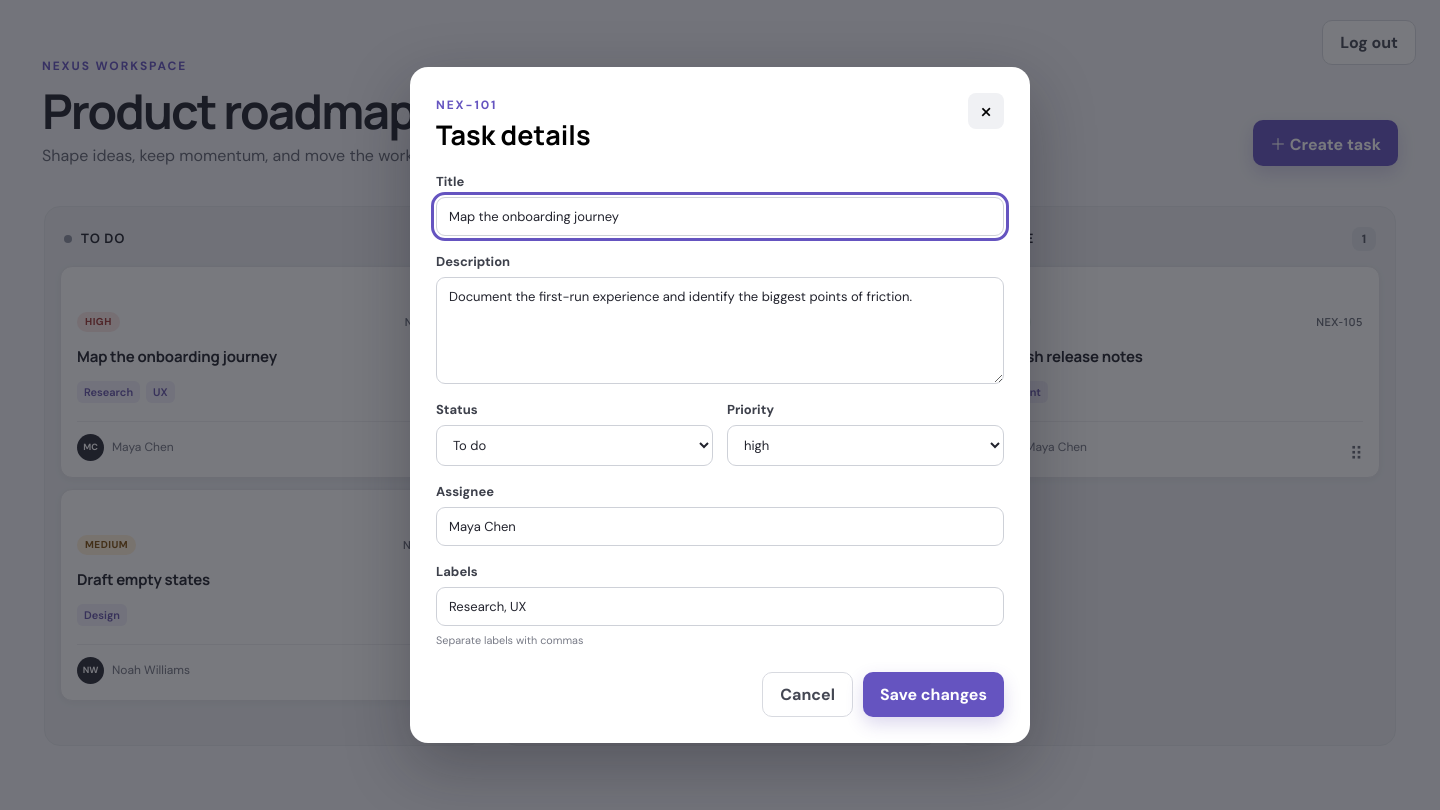
successful task save returns to the board route
The width and height of the screenshot is (1440, 810).
Click the button "Save changes" at {"x": 933, "y": 695}, box [863,672,1004,717]
(page scrolled)
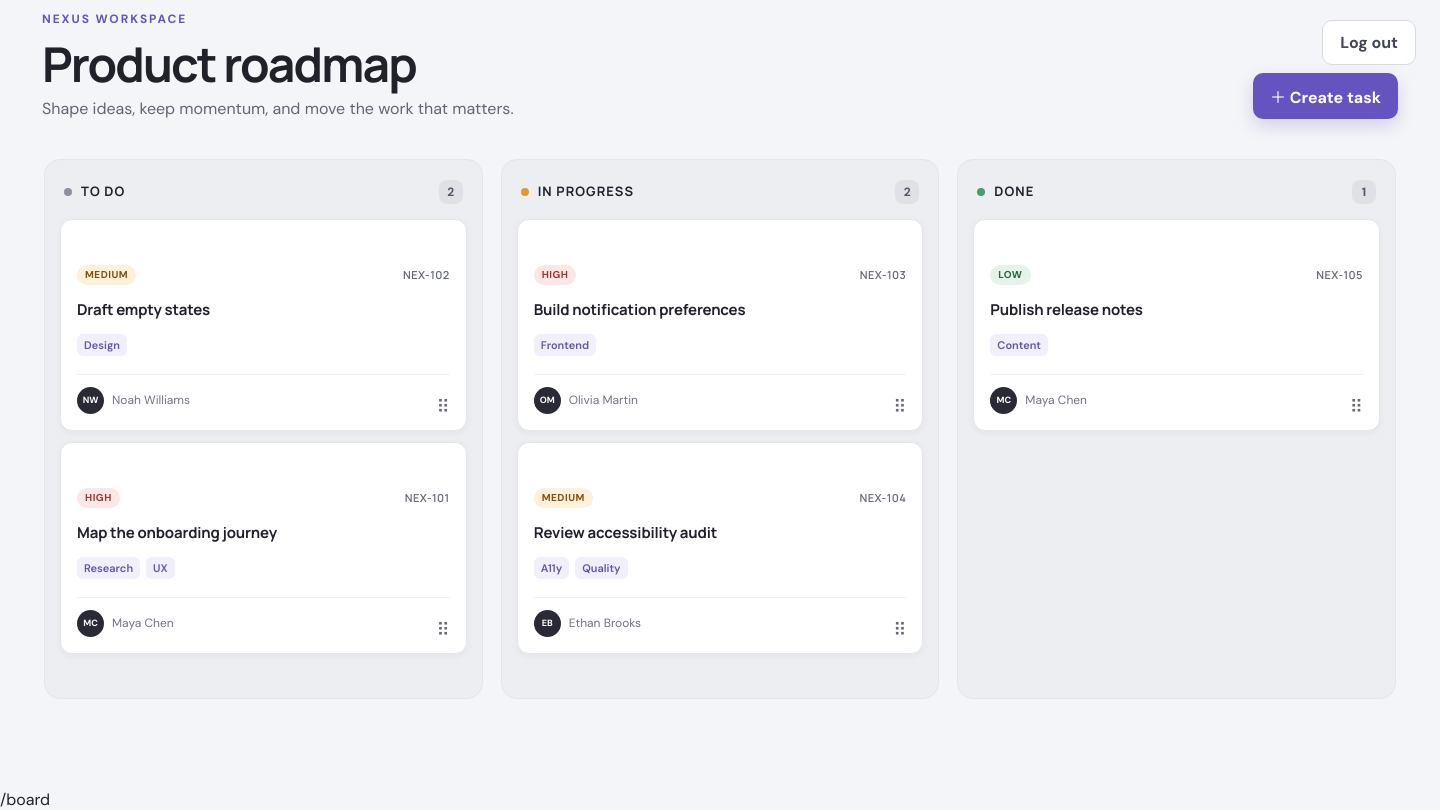
expect the text with test id "current-path" reads "/board": met, box [0,789,50,809]
expect the heading "Task details" is gone: met
